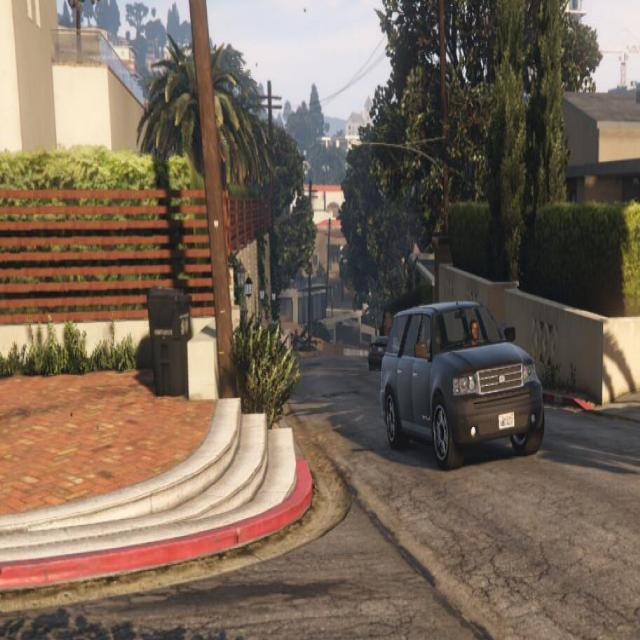ash bin: (143, 283, 191, 397)
car: (379, 296, 547, 469)
pole: (189, 2, 239, 394)
